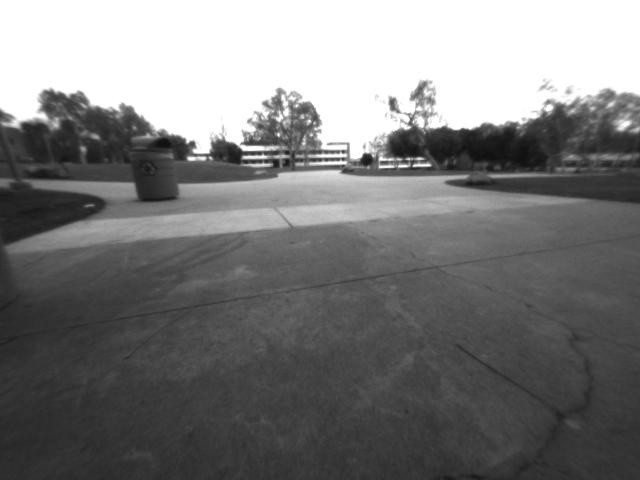trashcan: (129, 128, 184, 206)
